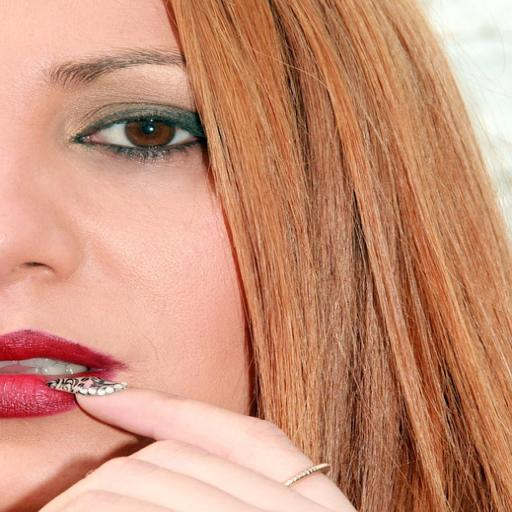lipstick: (0, 330, 124, 378)
